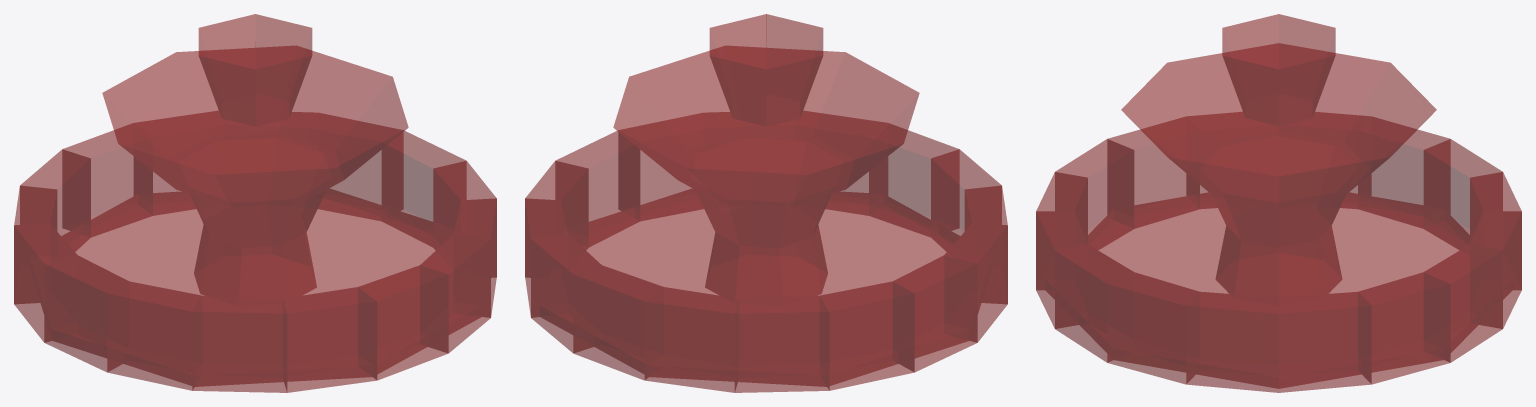
File: SM_Prop_Fountain_04_Collision.fbx
The picture shows the model from 3 angles, left to right: view 1: azimuth 30°, elevation 25°; view 2: azimuth 150°, elevation 25°; view 3: azimuth 270°, elevation 25°; orthographic projection.
Visible parts, largest first — view 1: SM_Prop_Fountain_04_Collision; view 2: SM_Prop_Fountain_04_Collision; view 3: SM_Prop_Fountain_04_Collision.
Boxes of the visible parts, left/top/right/bottom form: SM_Prop_Fountain_04_Collision: left=14, top=14, right=496, bottom=392; SM_Prop_Fountain_04_Collision: left=525, top=14, right=1007, bottom=392; SM_Prop_Fountain_04_Collision: left=1036, top=14, right=1521, bottom=392.
Size of the model in its own units: 321 by 181 by 321.
